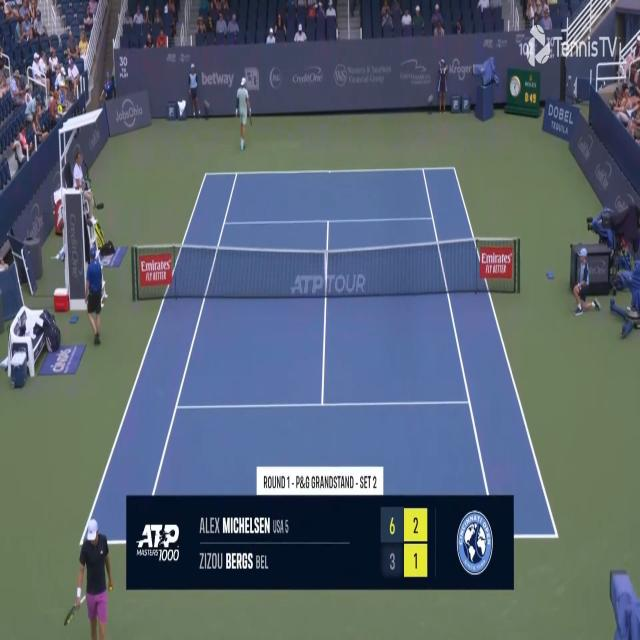tennis-player: (62, 506, 115, 640), (235, 76, 253, 152)
